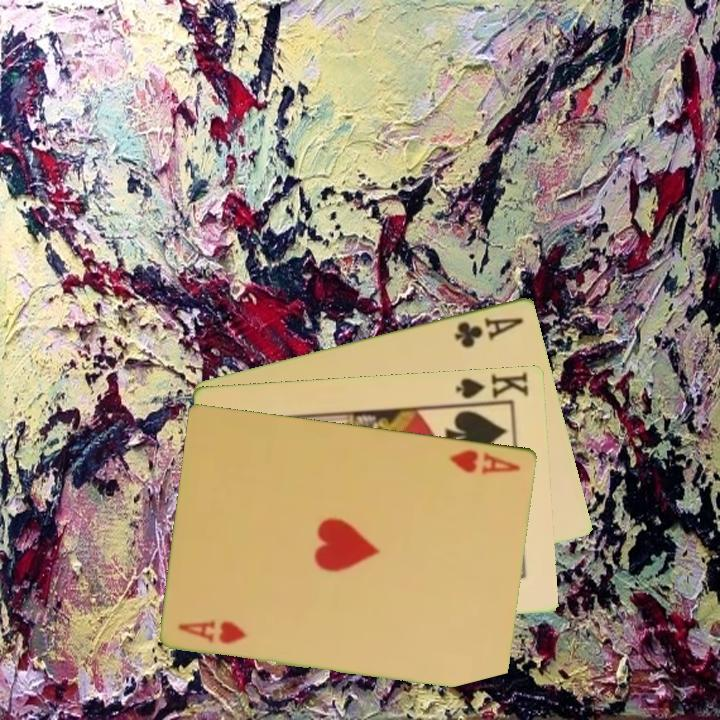Ac: (451, 313, 527, 351)
Ah: (446, 445, 524, 477), (174, 616, 250, 647)
Ks: (452, 368, 532, 408)
